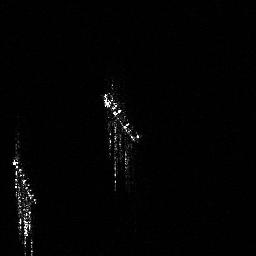ship: (100, 88, 145, 194), (9, 150, 41, 256)
